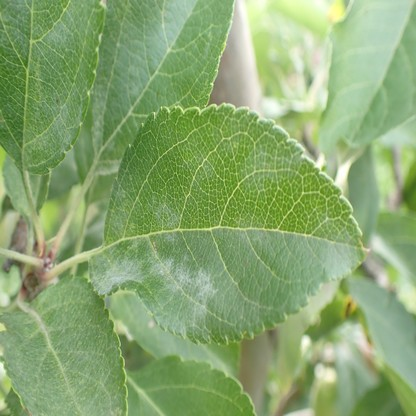powdery_mildew: (0, 1, 105, 174), (0, 277, 128, 413), (89, 203, 214, 330), (92, 89, 108, 156), (97, 157, 122, 174)
rust: (342, 293, 357, 318)
